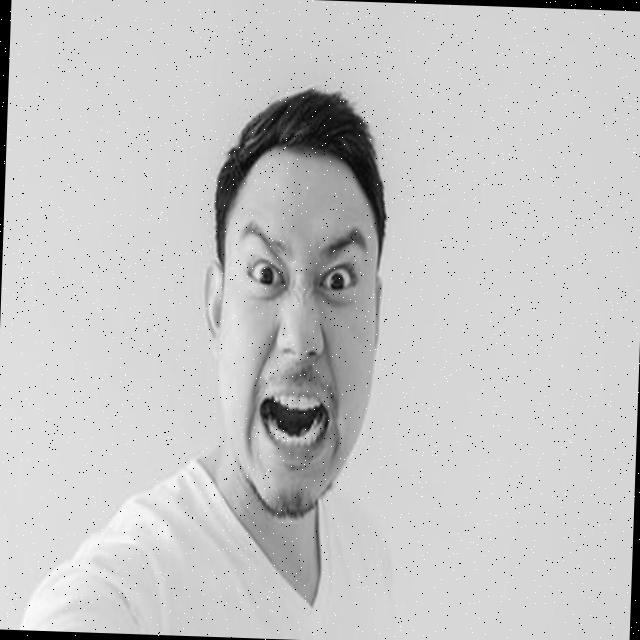Angry: (214, 149, 382, 516)
